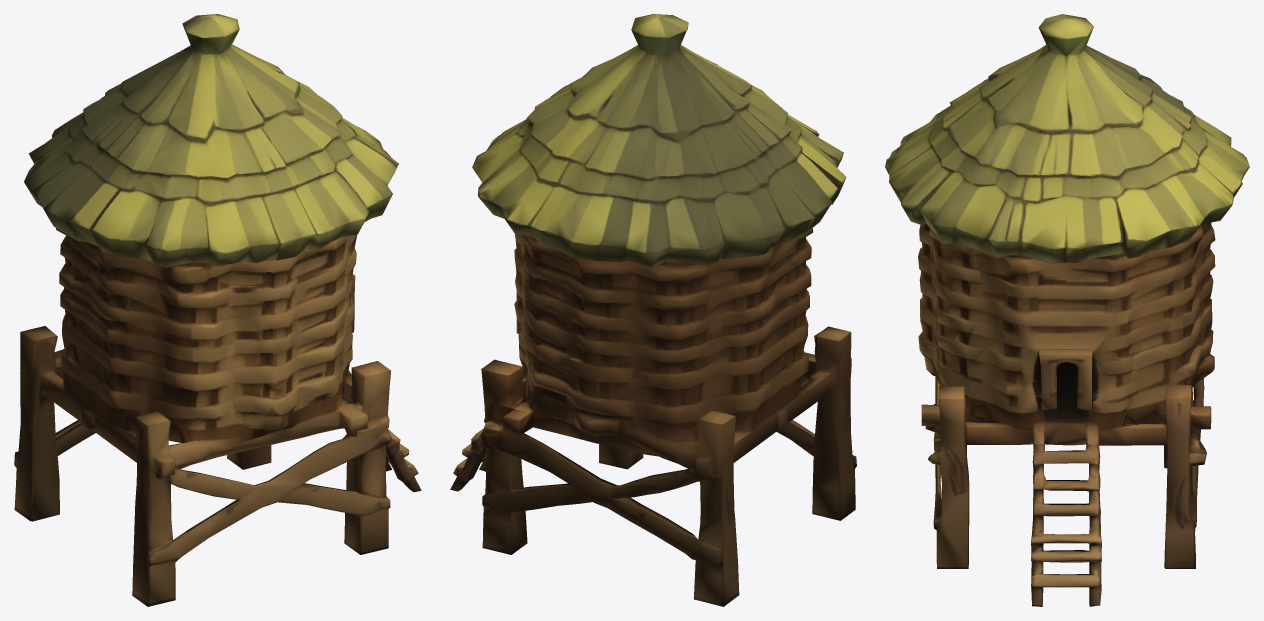
Rendered from granary_basket.glb.
The picture shows the model from 3 angles, left to right: view 1: azimuth 30°, elevation 25°; view 2: azimuth 150°, elevation 25°; view 3: azimuth 270°, elevation 25°; orthographic projection. The views are drawn at different scales.
Parts seen in each view (by area): view 1: world; view 2: world; view 3: world.
Part boxes in pixels (left/top/right/bottom): world: left=14, top=14, right=421, bottom=606; world: left=450, top=14, right=856, bottom=606; world: left=885, top=14, right=1249, bottom=606.
Size of the model in its own units: 0.7297 by 1 by 0.6654.
1 material, 1 textured.
